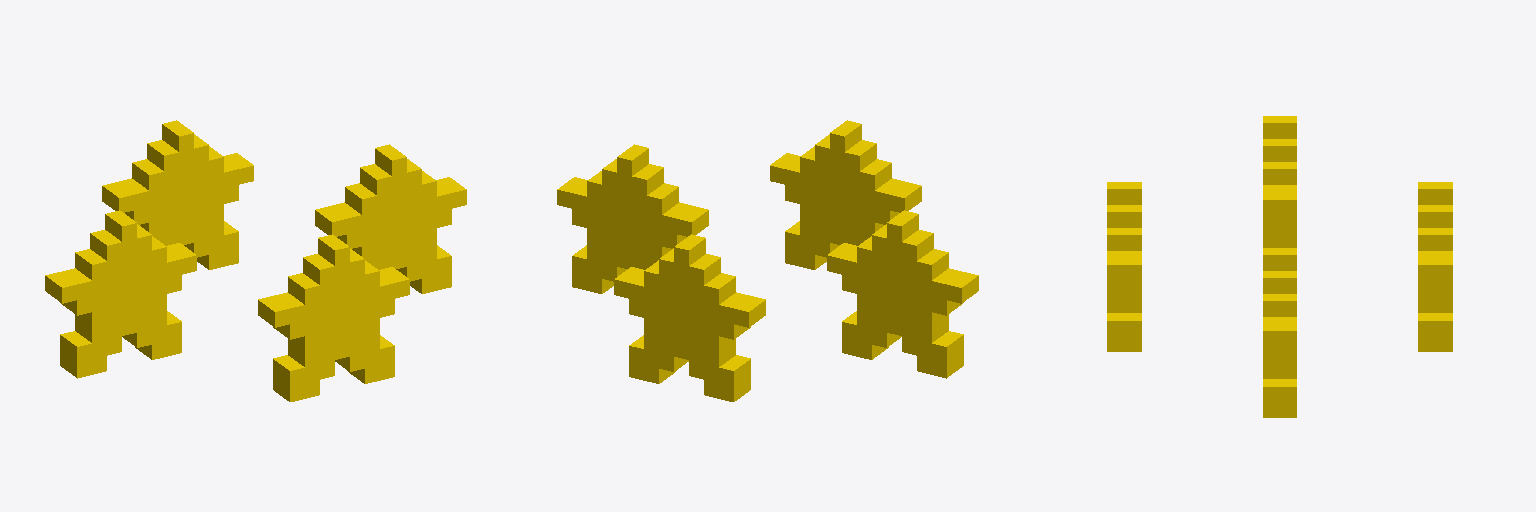
3 renders of one model, left to right at view 1: azimuth 30°, elevation 25°; view 2: azimuth 150°, elevation 25°; view 3: azimuth 270°, elevation 25°, orthographic.
Bounding box in the file's own units: 27 × 9 × 20.
Materials: 1 (1 with a texture image).